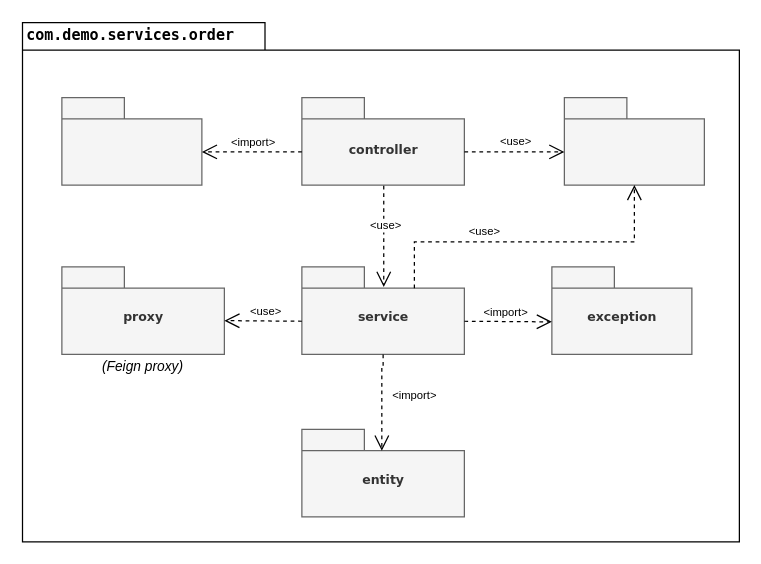
The diagram is 761 pixels wide and 564 high, and some of its shapes have lost their labels. The centre of each missing label's shape, as x and y in pixels:
dto: the point at 131,140
util: the point at 633,140
